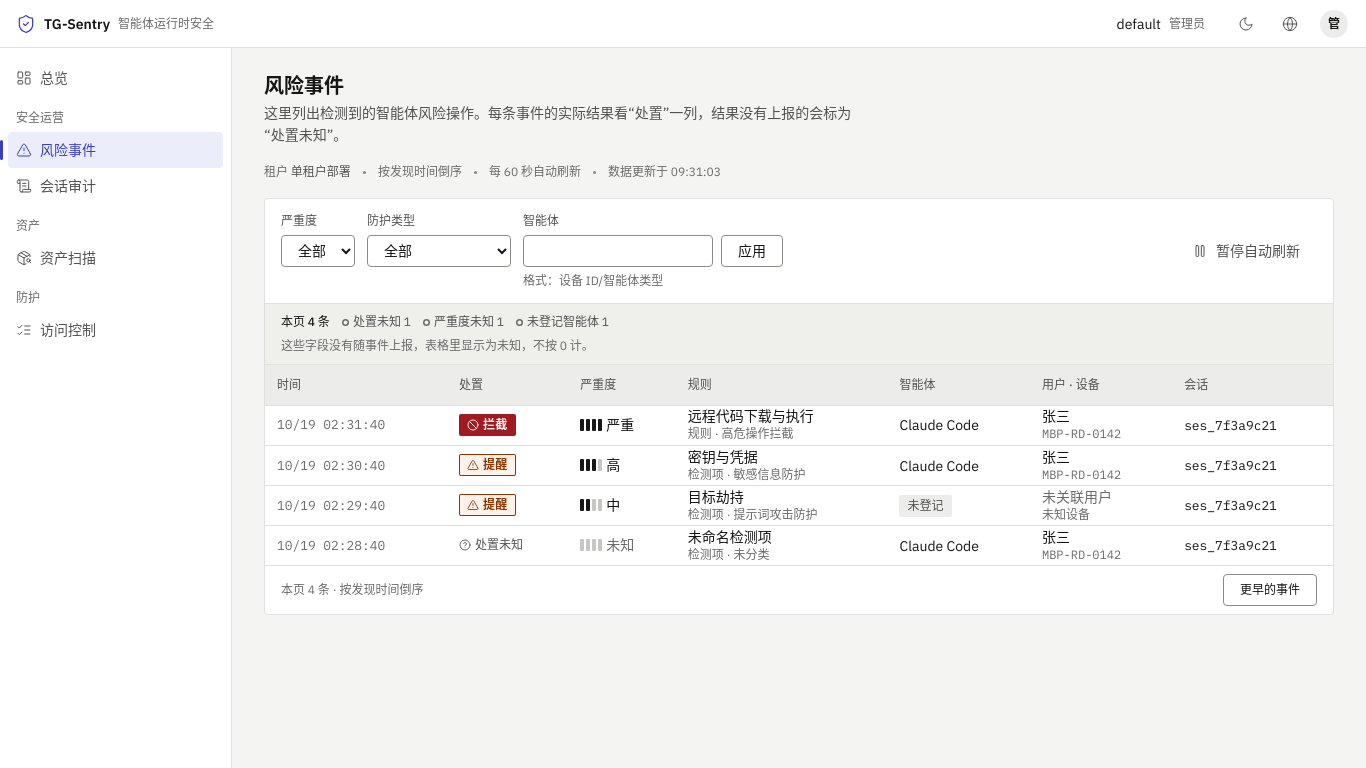
app shell › switches language to English and updates html lang
Click the button named "语言：简体中文。切换到 English" at (1290, 24), box [1274,8,1306,40]
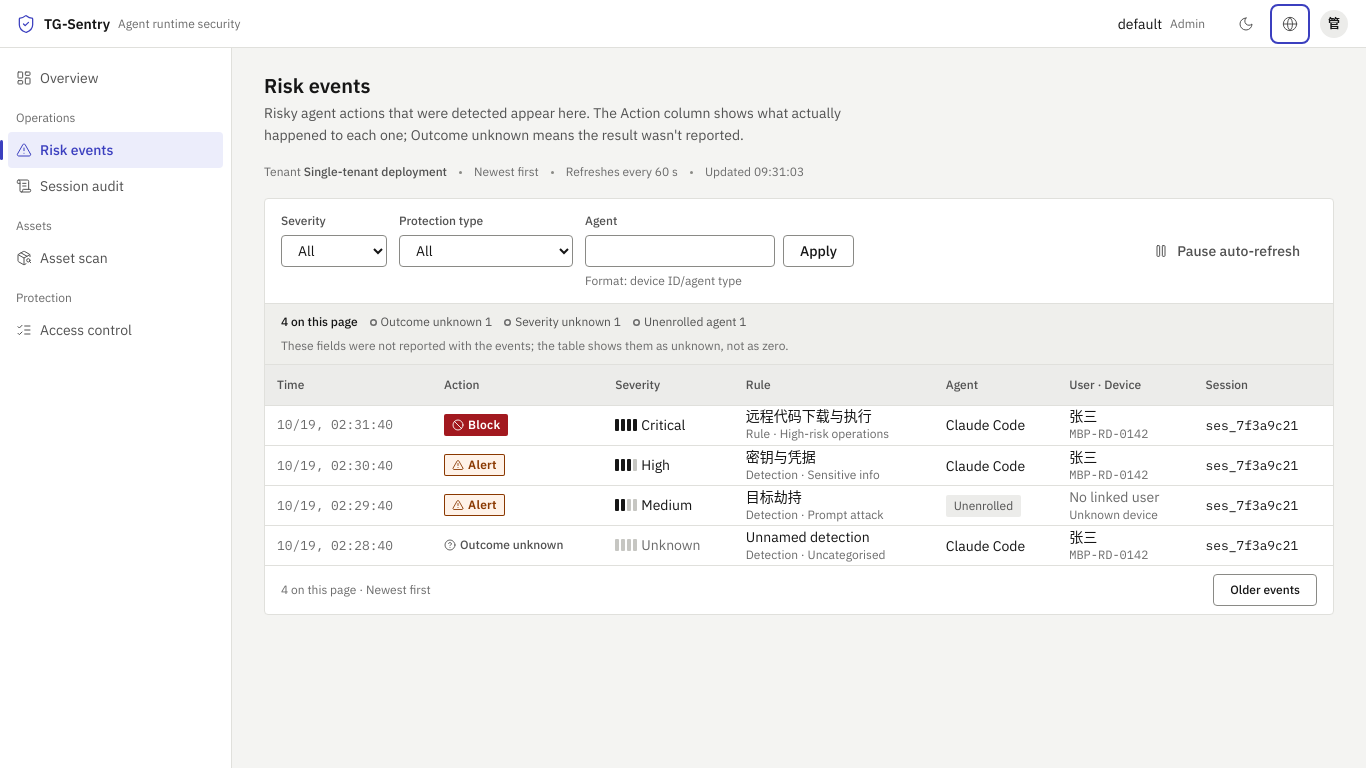
Now the heading "Risk events" is shown, box [264,72,370,99]
